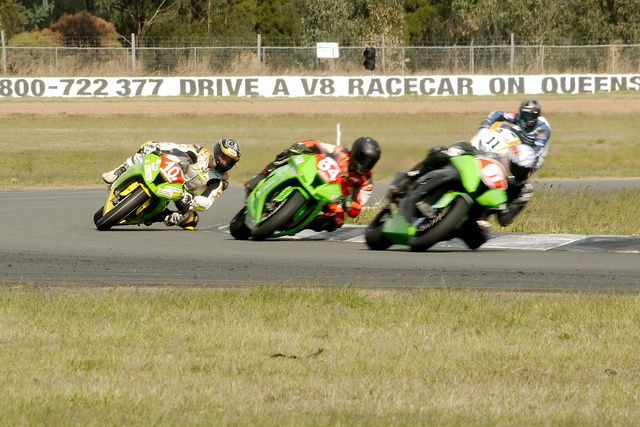non-vehicle: (365, 142, 507, 251), (229, 144, 348, 241), (93, 140, 198, 229), (470, 116, 551, 225)
